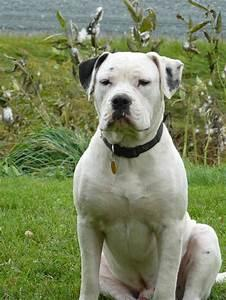dog: (71, 49, 225, 299)
